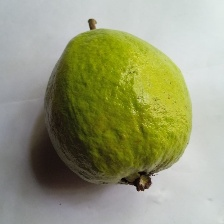guava: (24, 31, 221, 182)
